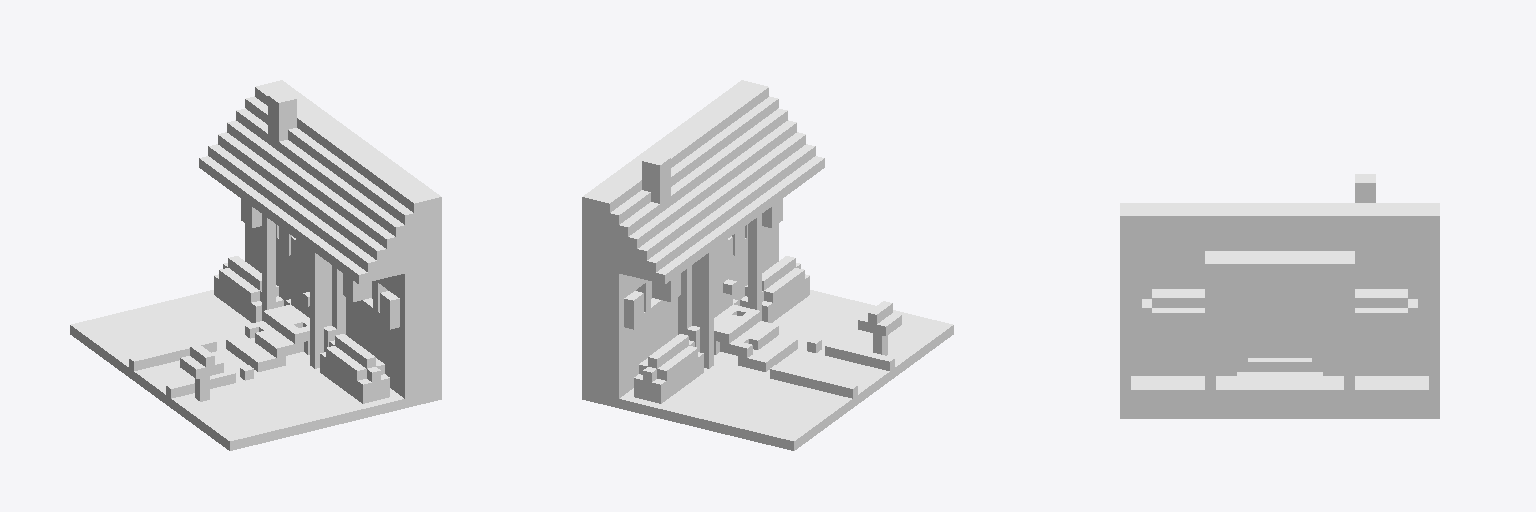
File: MAQUETTE-3.obj
The picture shows the model from 3 angles: view 1: azimuth 30°, elevation 25°; view 2: azimuth 150°, elevation 25°; view 3: azimuth 270°, elevation 25°; orthographic projection.
Parts seen in each view (by area): view 1: object 1; view 2: object 1; view 3: object 1.
Part boxes in pixels (x1,y1,x2,y2): object 1: (70, 80, 441, 450); object 1: (582, 80, 953, 450); object 1: (1120, 174, 1439, 418).
Bounding box in the file's own units: 2.3 × 2.3 × 3.